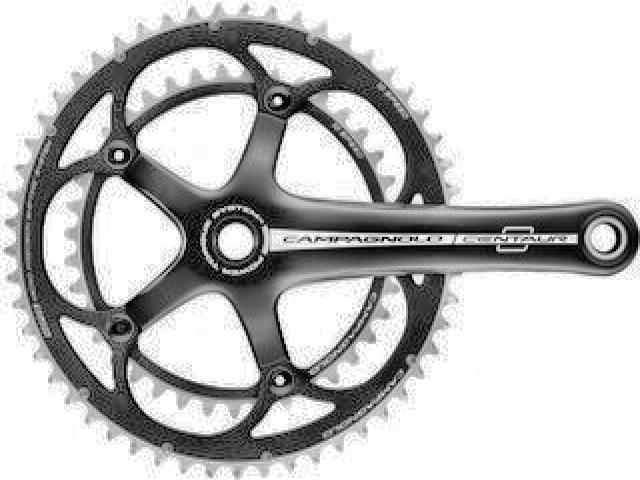cranks_set: (4, 2, 640, 478)
